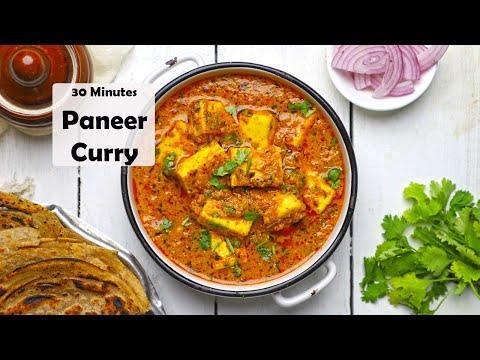paneer: (180, 101, 305, 257)
